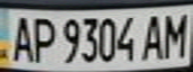0: (97, 14, 118, 63)
3: (78, 13, 100, 64)
4: (115, 12, 142, 63)
9: (57, 15, 81, 64)
A: (6, 12, 36, 63), (139, 11, 169, 61)
M: (160, 9, 193, 60)
P: (27, 13, 57, 64)
